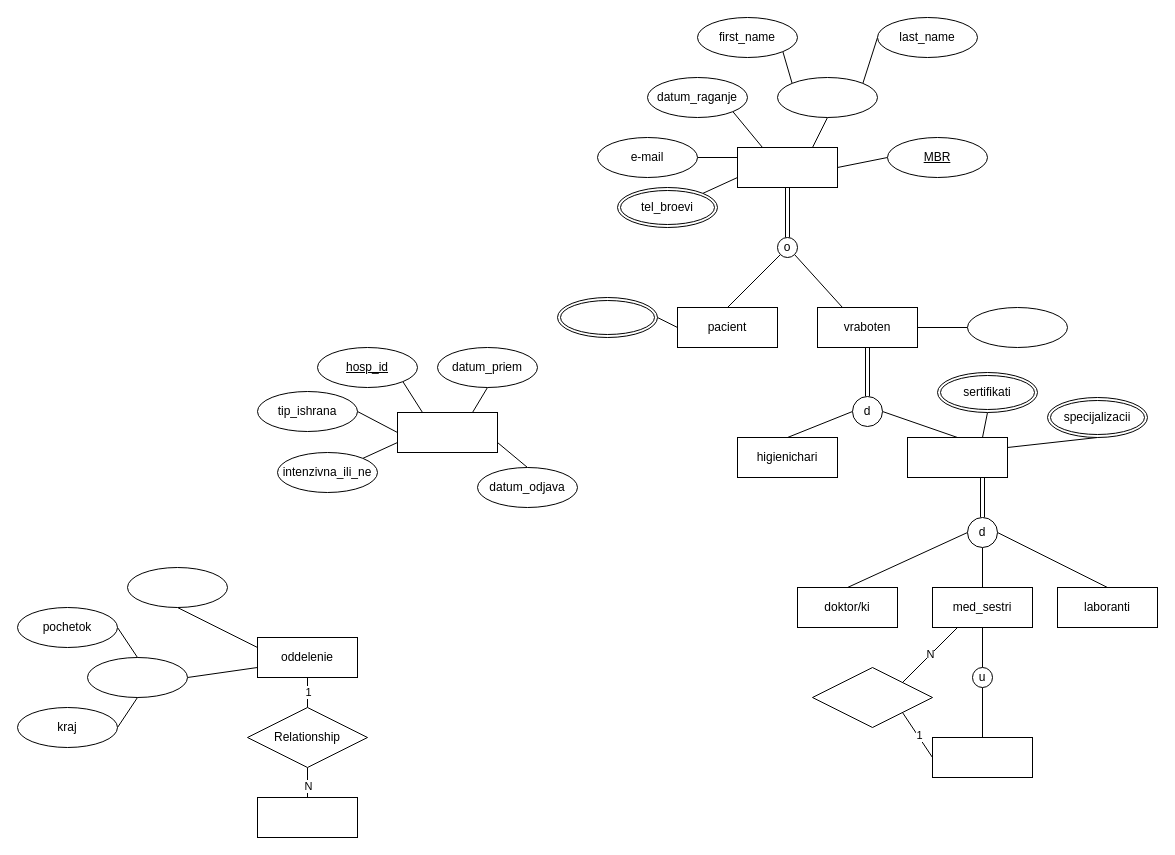
This 1175x855 diagram has some shape labels left out. The box of each missing label's shape, as (x1, y1, x2, y2) in pixels:
alergii: (556, 296, 658, 338)
dozvolen_period: (86, 656, 188, 698)
glavna_sestra: (932, 736, 1032, 778)
hospitalizacija: (396, 412, 498, 452)
ime: (776, 76, 878, 118)
korisnik: (736, 146, 838, 188)
med_personal: (906, 436, 1008, 478)
naziv: (126, 566, 228, 608)
raboten_stazh: (966, 306, 1068, 348)
rakovodi: (812, 666, 932, 728)
soba: (256, 796, 358, 838)
